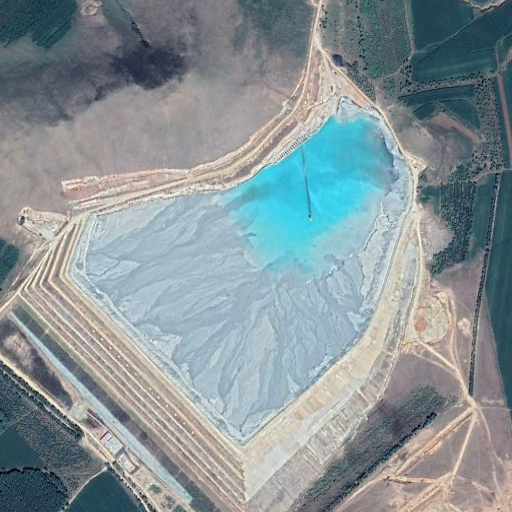tp: (26, 93, 421, 501)
